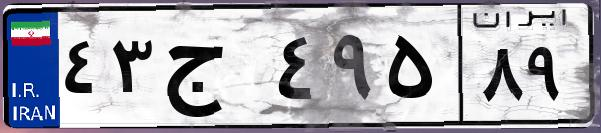3: (110, 28, 158, 98)
4: (270, 28, 330, 110), (57, 26, 110, 100)
5: (385, 28, 445, 110)
8: (475, 38, 525, 113)
9: (330, 28, 385, 110), (525, 38, 570, 115)
ج: (158, 20, 270, 120)
